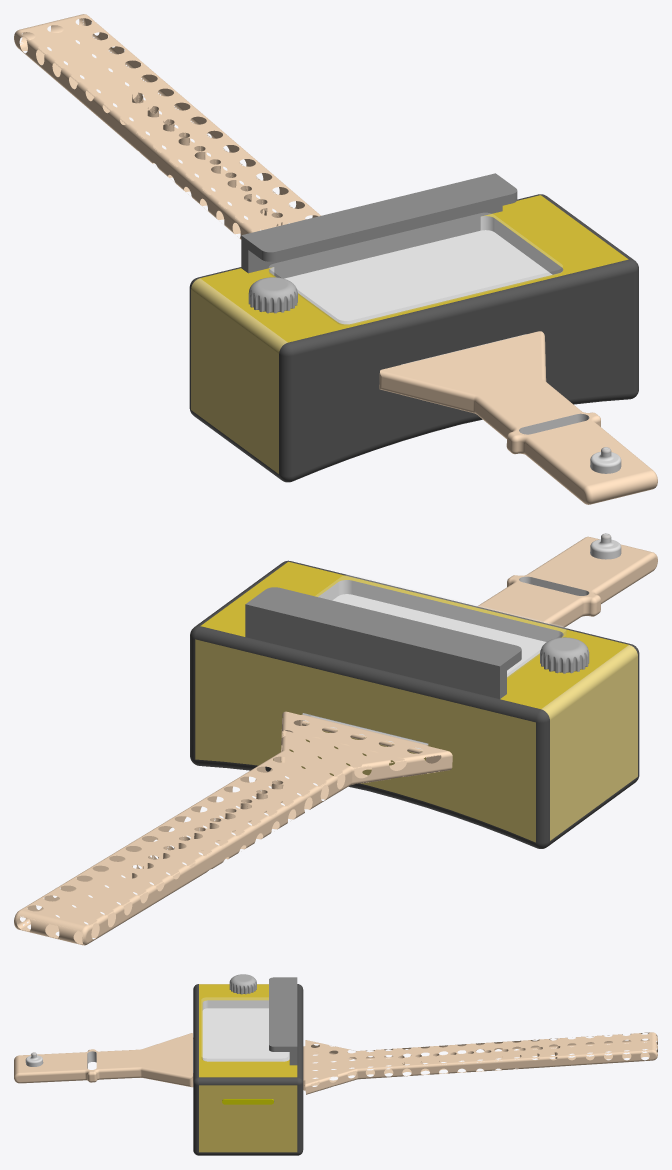
The picture shows the model from 3 angles, top to bottom: view 1: azimuth 30°, elevation 25°; view 2: azimuth 150°, elevation 25°; view 3: azimuth 270°, elevation 25°; orthographic projection. The views are drawn at different scales.
Parts seen in each view (by area): view 1: Smartwatch_Fallout_Blueprint_combined; view 2: Smartwatch_Fallout_Blueprint_combined; view 3: Smartwatch_Fallout_Blueprint_combined.
Part boxes in pixels (bbox=[...]): Smartwatch_Fallout_Blueprint_combined: bbox=[14, 14, 657, 504]; Smartwatch_Fallout_Blueprint_combined: bbox=[14, 533, 657, 945]; Smartwatch_Fallout_Blueprint_combined: bbox=[14, 974, 657, 1155].
Bounding box in the file's own units: 0.0402 × 0.0183 × 0.1112.
Materials: 19 (1 with a texture image).
